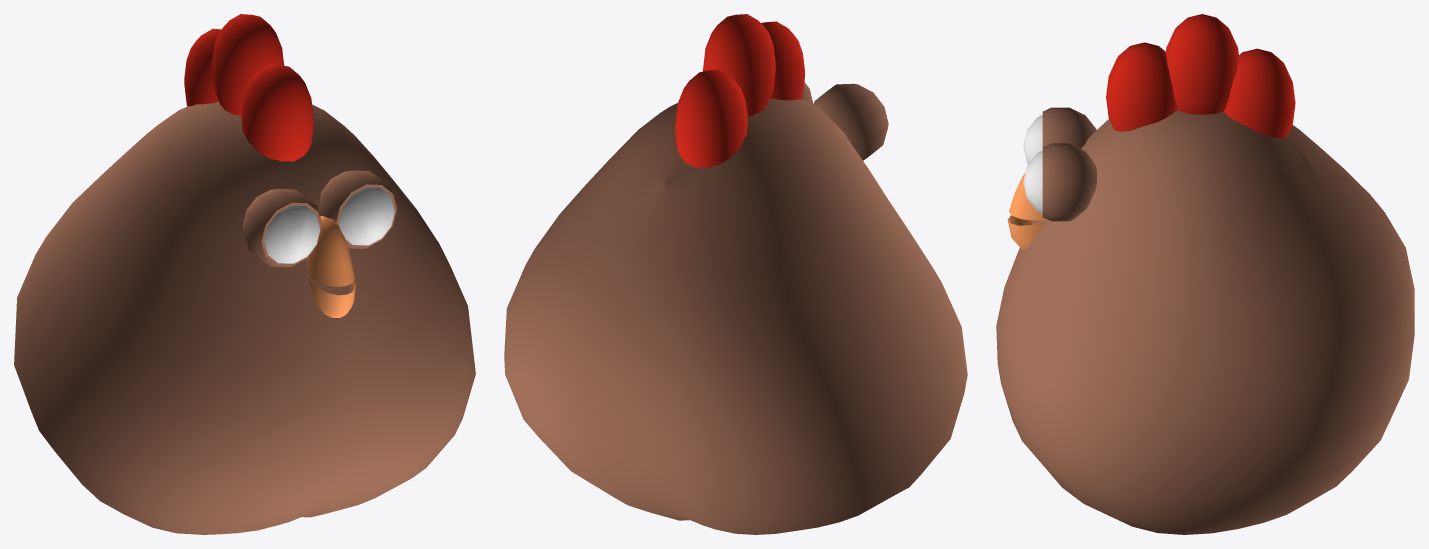
File: pinto-bean.fbx
The picture shows the model from 3 angles, left to right: view 1: azimuth 30°, elevation 25°; view 2: azimuth 150°, elevation 25°; view 3: azimuth 270°, elevation 25°; orthographic projection.
Visible parts, largest first — view 1: Sphere.002; view 2: Sphere.002; view 3: Sphere.002.
Part boxes in pixels (bbox=[...]): Sphere.002: bbox=[14, 14, 475, 534]; Sphere.002: bbox=[504, 14, 967, 534]; Sphere.002: bbox=[996, 14, 1414, 534].
Size of the model in its own units: 0.8483 by 1.01 by 0.7894.
